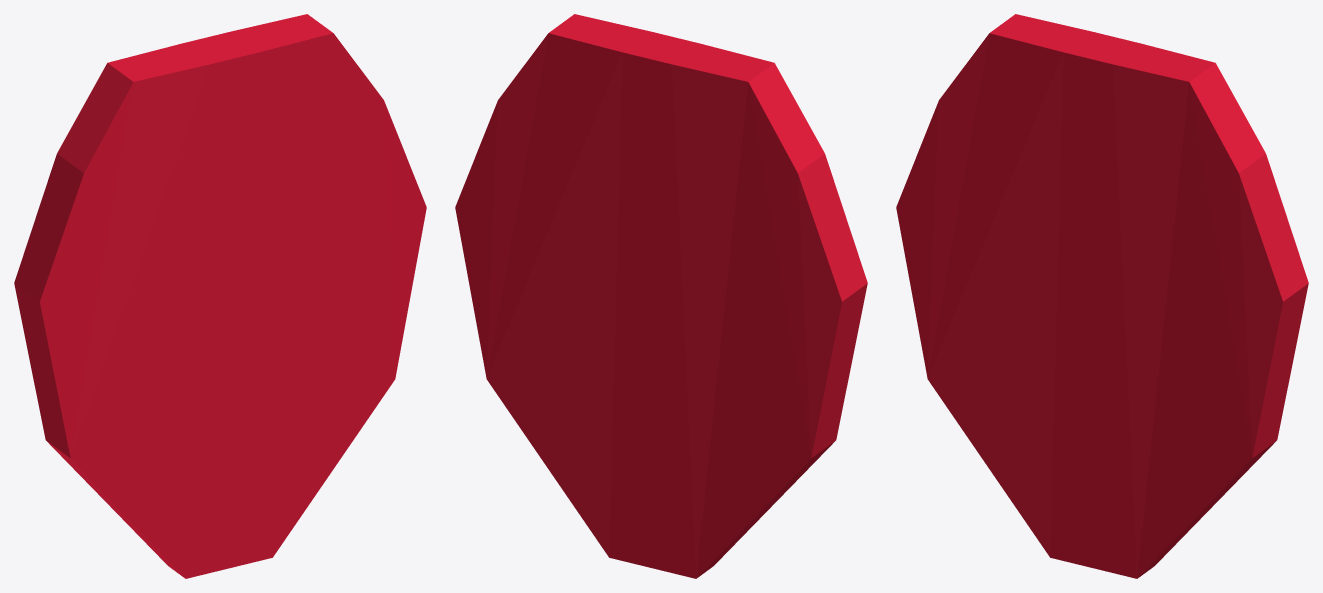
File: radishSliceOutside.obj
The picture shows the model from 3 angles, left to right: view 1: azimuth 30°, elevation 25°; view 2: azimuth 150°, elevation 25°; view 3: azimuth 330°, elevation 25°; orthographic projection.
Parts seen in each view (by area): view 1: radish.001; view 2: radish.001; view 3: radish.001.
Part boxes in pixels (x1,y1,x2,y2): radish.001: [14, 14, 426, 578]; radish.001: [455, 14, 867, 578]; radish.001: [896, 14, 1308, 578].
Bounding box in the file's own units: 0.1026 × 0.1303 × 0.0131.
